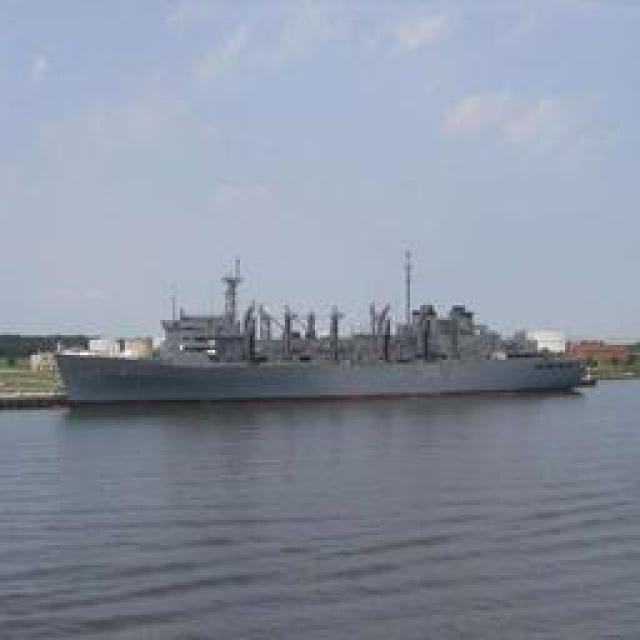Ship: (61, 314, 584, 404)
